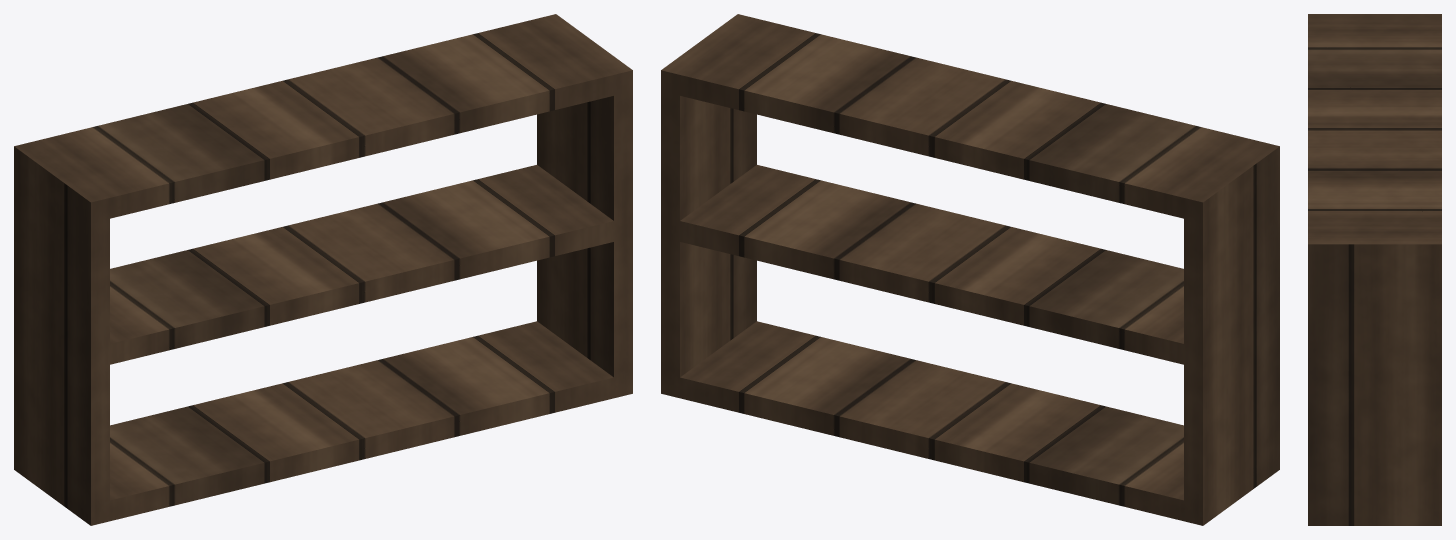
Rendered from Shelf_Small_Bottles_LOD2.gltf.
3 views of the same model, side by side, from view 1: azimuth 30°, elevation 25°; view 2: azimuth 150°, elevation 25°; view 3: azimuth 270°, elevation 25° (orthographic). The views are drawn at different scales.
Visible parts, largest first — view 1: Shelf_Small_Bottles_LOD2; view 2: Shelf_Small_Bottles_LOD2; view 3: Shelf_Small_Bottles_LOD2.
Part boxes in pixels (box(x1,y1,x2,y2)): Shelf_Small_Bottles_LOD2: box(14, 14, 632, 525); Shelf_Small_Bottles_LOD2: box(661, 14, 1279, 525); Shelf_Small_Bottles_LOD2: box(1308, 14, 1441, 525).
Size of the model in its own units: 1.14 by 0.65 by 0.28.
1 material, 1 textured.
